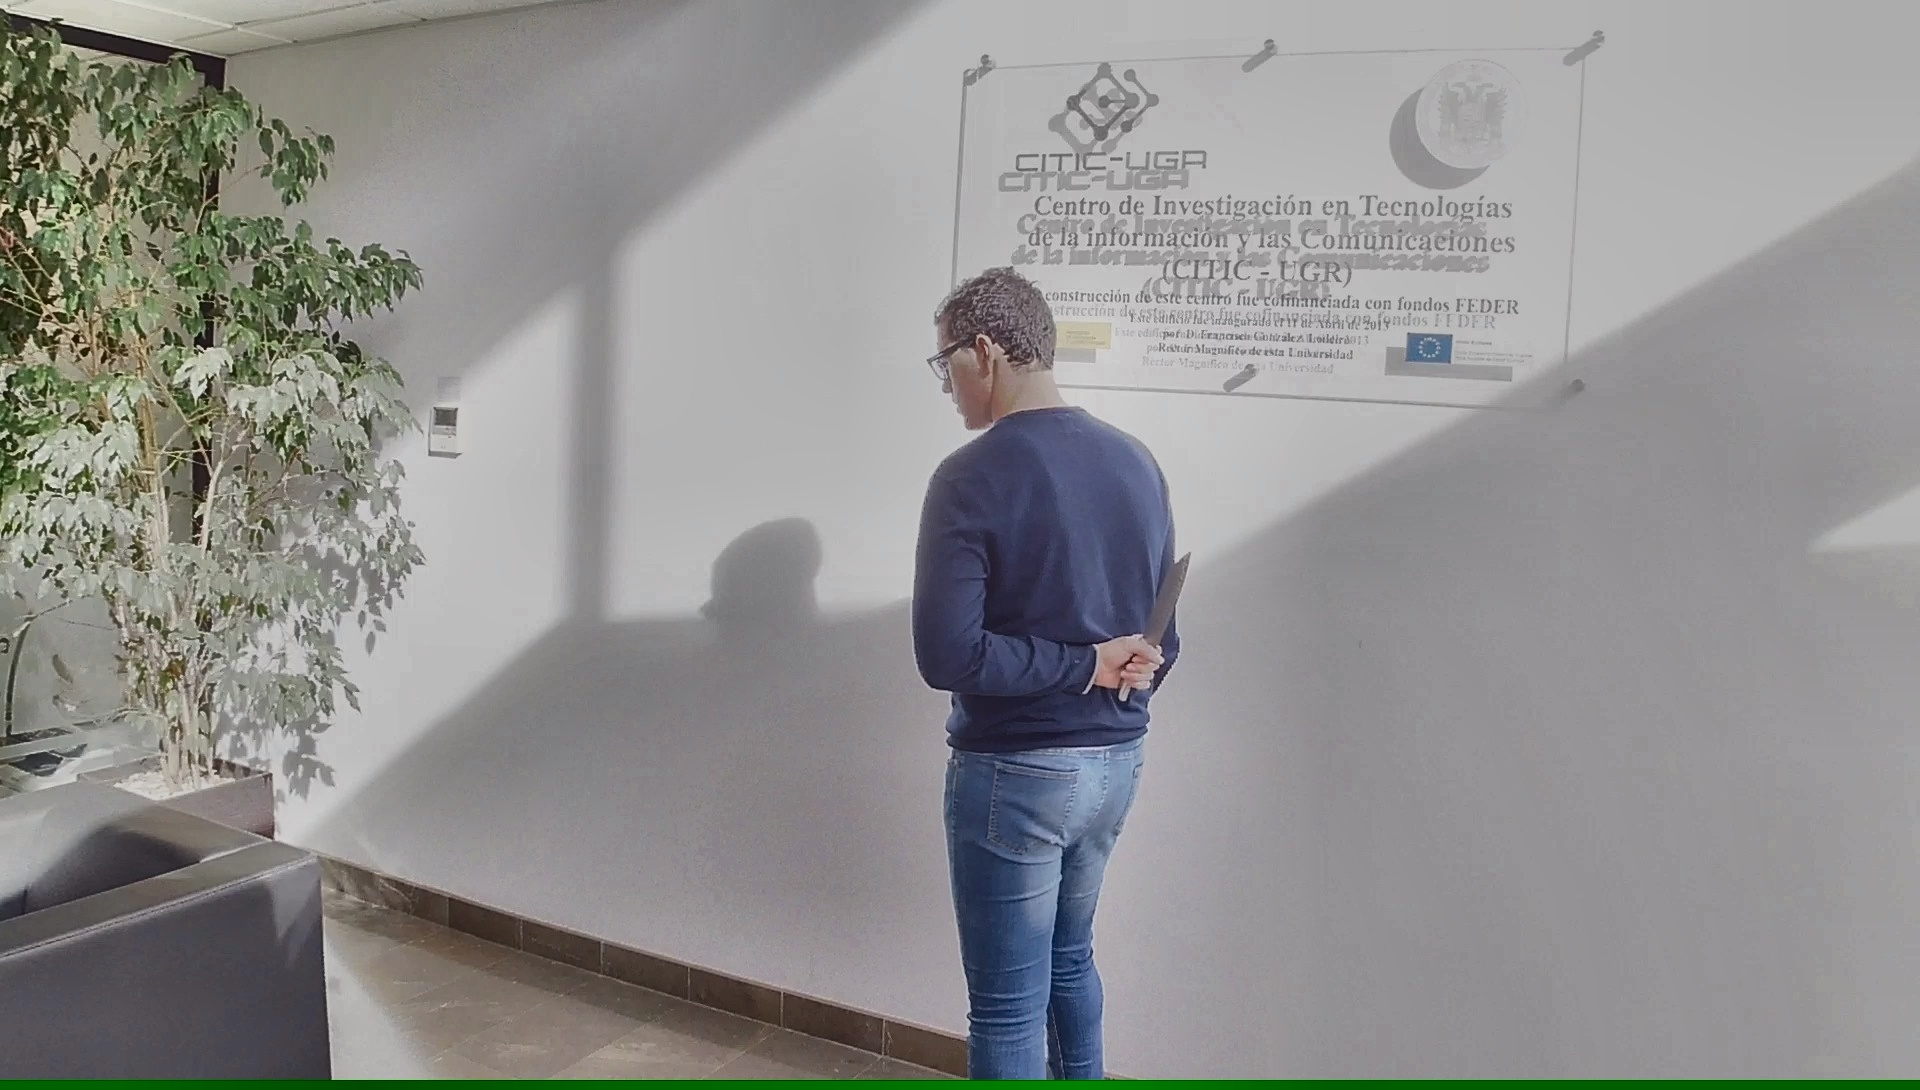knife: (1113, 540, 1203, 706)
